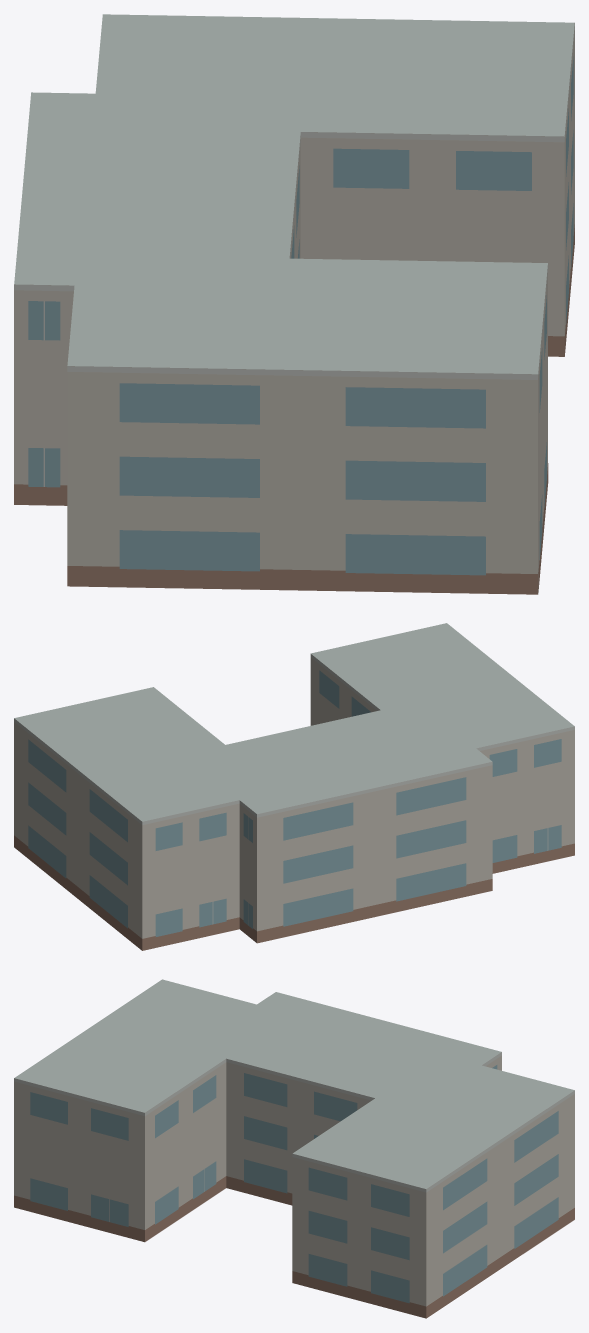
File: survey-upis-32996964.glb
The picture shows the model from 3 angles, top to bottom: view 1: azimuth 30°, elevation 25°; view 2: azimuth 150°, elevation 25°; view 3: azimuth 270°, elevation 25°; orthographic projection. The views are drawn at different scales.
Parts seen in each view (by area): view 1: survey-upis-32996964.tmp; view 2: survey-upis-32996964.tmp; view 3: survey-upis-32996964.tmp.
Part boxes in pixels (x1,y1,x2,y2): survey-upis-32996964.tmp: (14, 14, 574, 594); survey-upis-32996964.tmp: (14, 623, 574, 950); survey-upis-32996964.tmp: (14, 979, 574, 1318).
Bounding box in the file's own units: 31.83 × 9.15 × 35.96.
